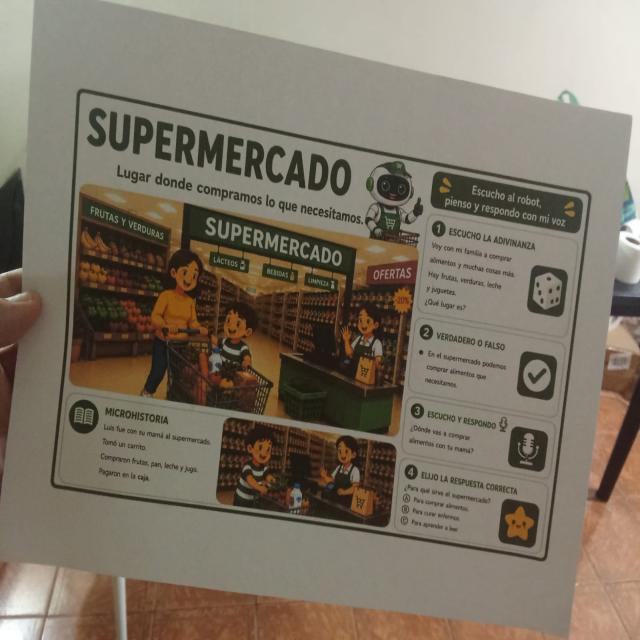supermercado: (47, 84, 596, 567)
